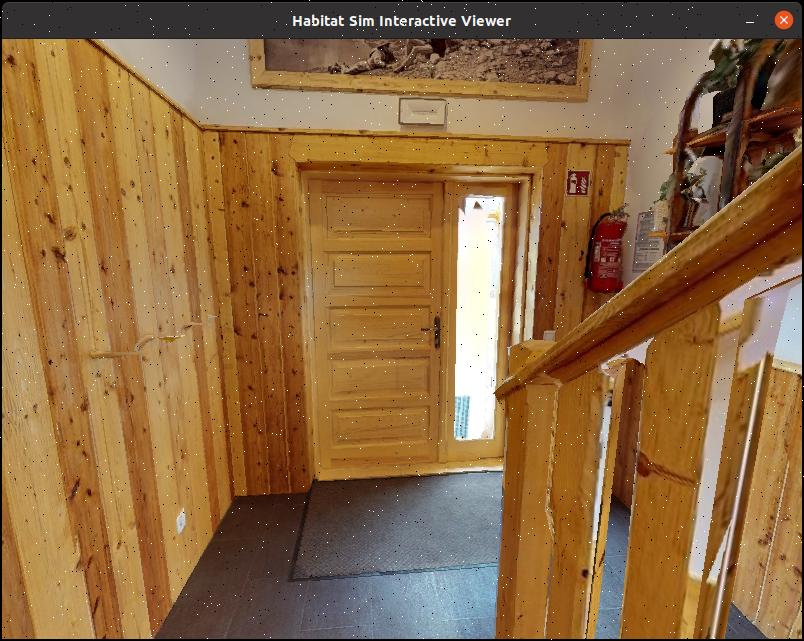door: (297, 171, 442, 470)
stairs: (494, 125, 804, 641)
